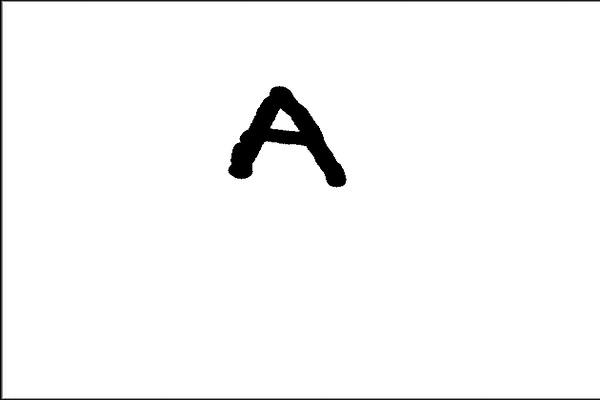A: (217, 78, 349, 193)
